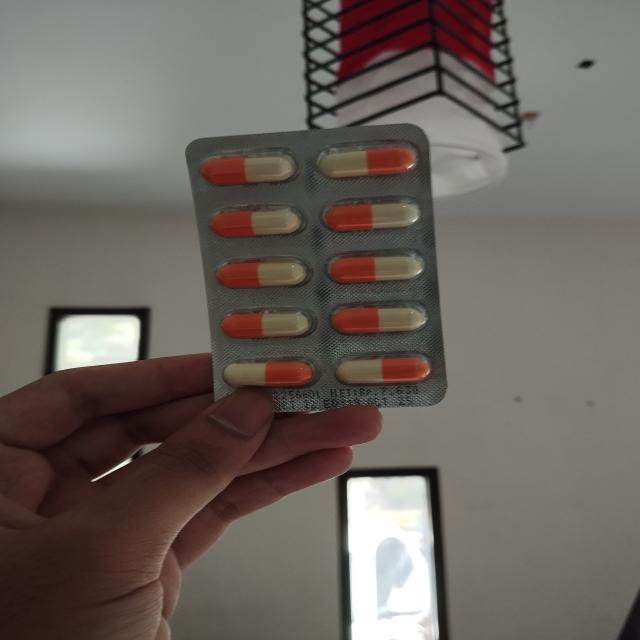B3: (179, 118, 453, 412)
